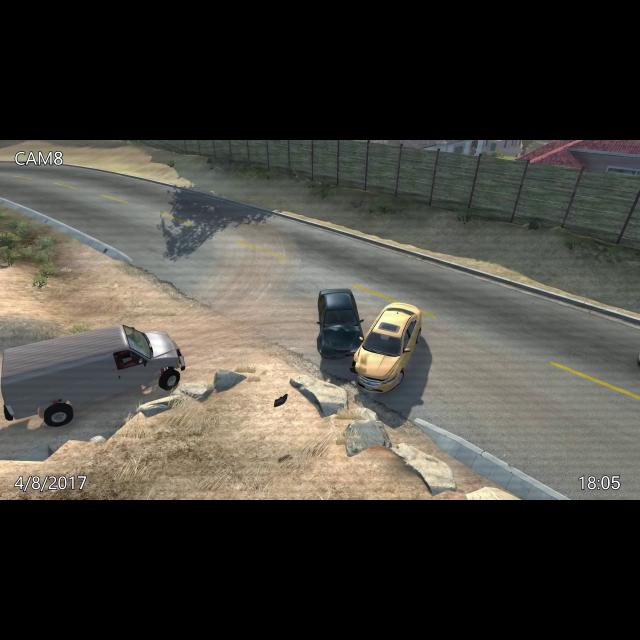accident: (311, 288, 425, 396)
